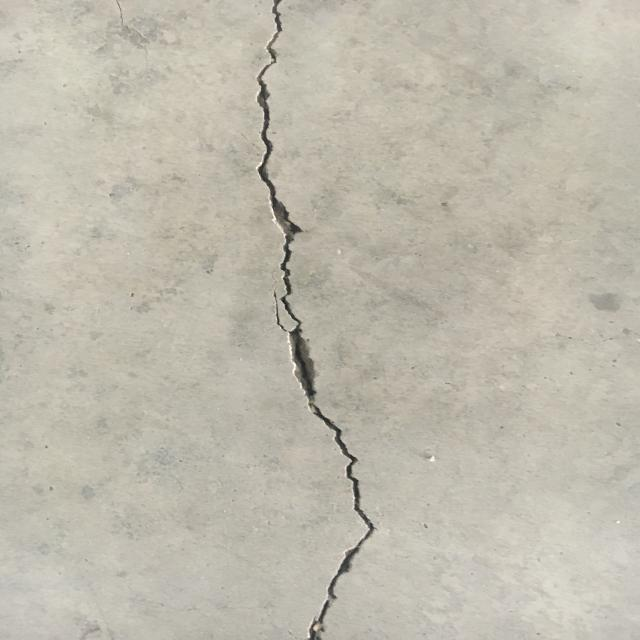Rachadura: (256, 0, 374, 640)
